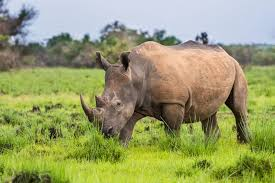Rhinoceros: (77, 29, 258, 152)
